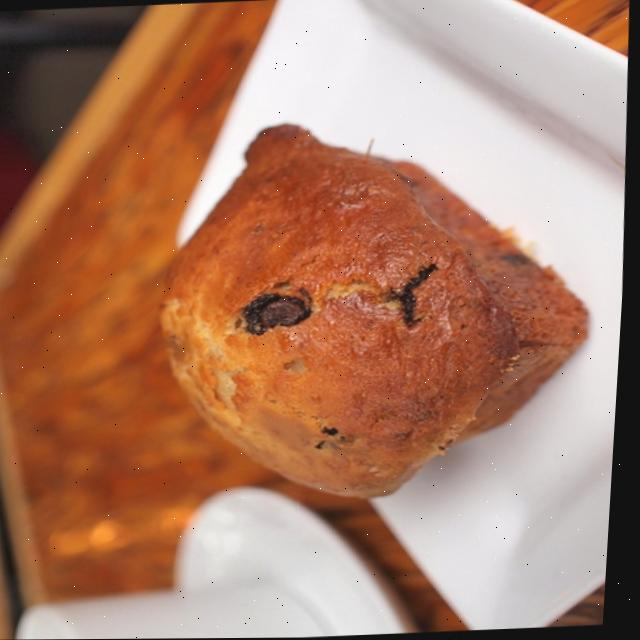炸货点心: (122, 71, 620, 532)
面包点心: (122, 71, 620, 532)
